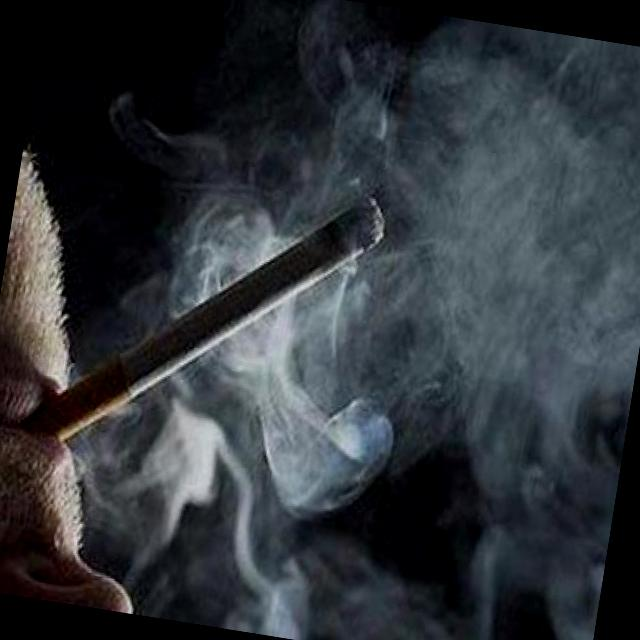smoke: (9, 128, 404, 517)
